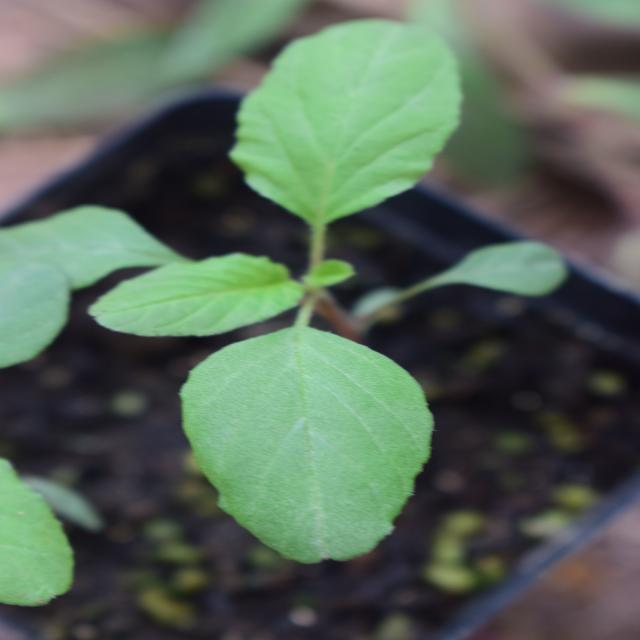pigweed: (62, 105, 629, 524)
